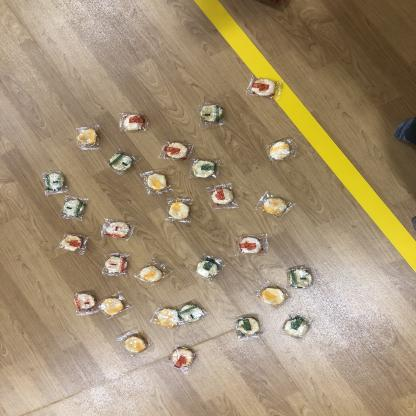green_setoshio: (59, 193, 92, 222), (281, 315, 315, 341), (178, 298, 209, 326), (233, 313, 264, 341), (194, 256, 224, 283), (287, 265, 316, 291), (108, 149, 138, 174), (42, 169, 68, 196), (198, 104, 227, 127), (190, 158, 220, 180)
red_setoshio: (166, 344, 202, 374), (98, 218, 137, 243), (245, 75, 282, 100), (67, 289, 100, 316), (235, 234, 270, 258), (57, 232, 91, 256), (208, 184, 239, 209), (101, 252, 130, 278), (163, 139, 194, 162), (118, 113, 151, 134)
yellow_setoshio: (254, 192, 295, 218), (135, 259, 170, 286), (162, 197, 196, 224), (71, 125, 105, 152), (138, 169, 172, 195), (256, 285, 291, 310), (118, 332, 152, 356), (101, 292, 128, 319), (268, 141, 297, 163), (150, 306, 176, 328)
